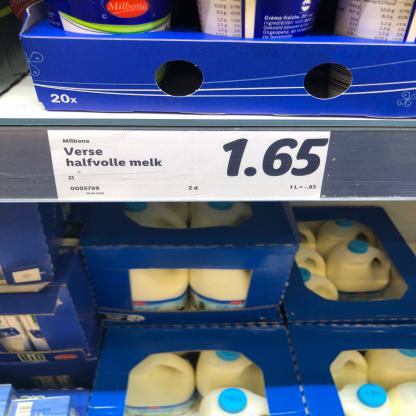prtg: (48, 131, 333, 201)
